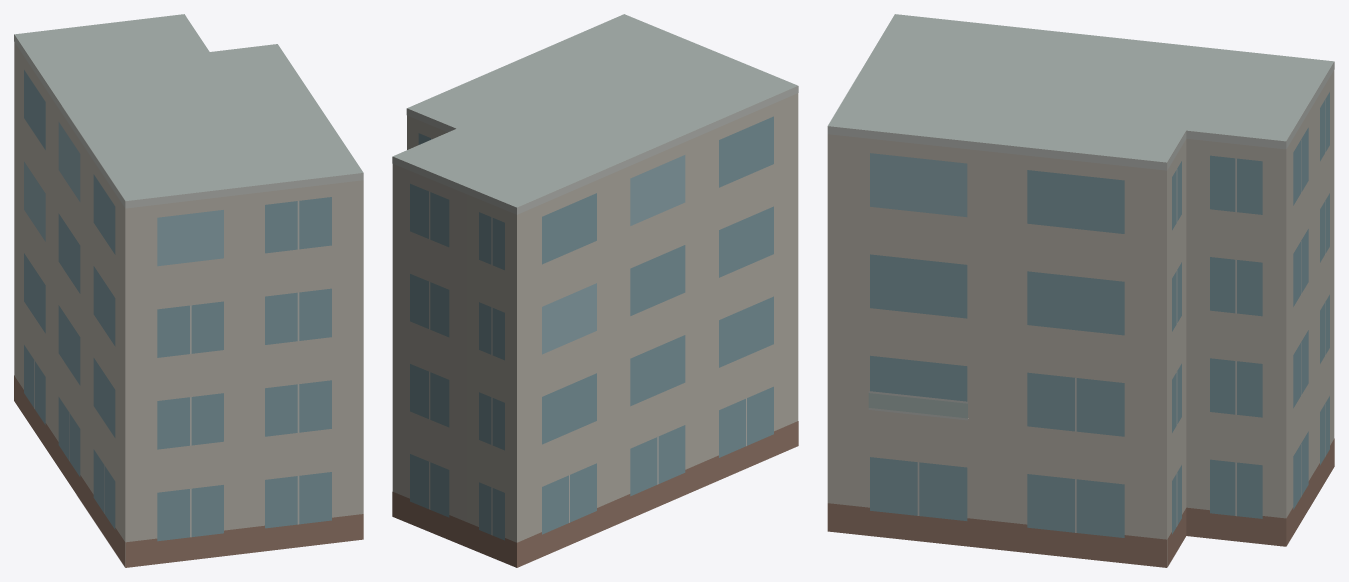
File: residential-f049cd0a-b612-44ef-9473-dd938687598c.glb
3 views of the same model, side by side, from view 1: azimuth 30°, elevation 25°; view 2: azimuth 150°, elevation 25°; view 3: azimuth 270°, elevation 25° (orthographic). The views are drawn at different scales.
Parts seen in each view (by area): view 1: residential-f049cd0a-b612-44ef-9473-dd938687598c.tmp; view 2: residential-f049cd0a-b612-44ef-9473-dd938687598c.tmp; view 3: residential-f049cd0a-b612-44ef-9473-dd938687598c.tmp.
Part boxes in pixels (x1,y1,x2,y2): residential-f049cd0a-b612-44ef-9473-dd938687598c.tmp: (14,14,363,567); residential-f049cd0a-b612-44ef-9473-dd938687598c.tmp: (392,14,798,567); residential-f049cd0a-b612-44ef-9473-dd938687598c.tmp: (827,14,1334,567).
Bounding box in the file's own units: 9.6 × 12.2 × 13.84.
